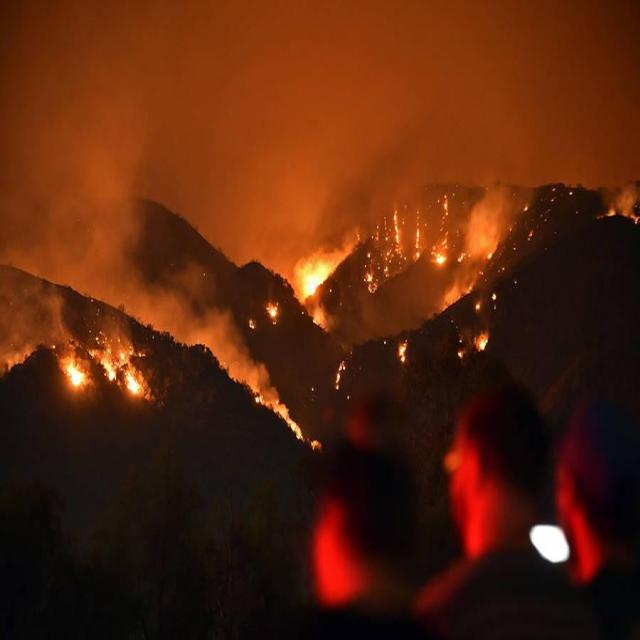Fire: (26, 103, 564, 435)
